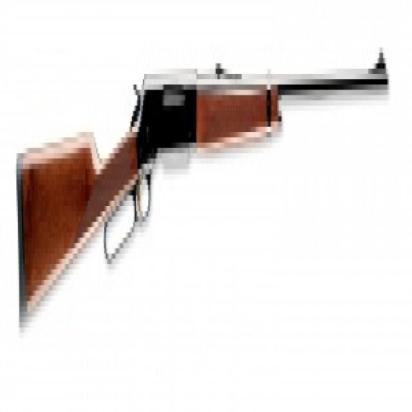Gun: (17, 50, 390, 334)
